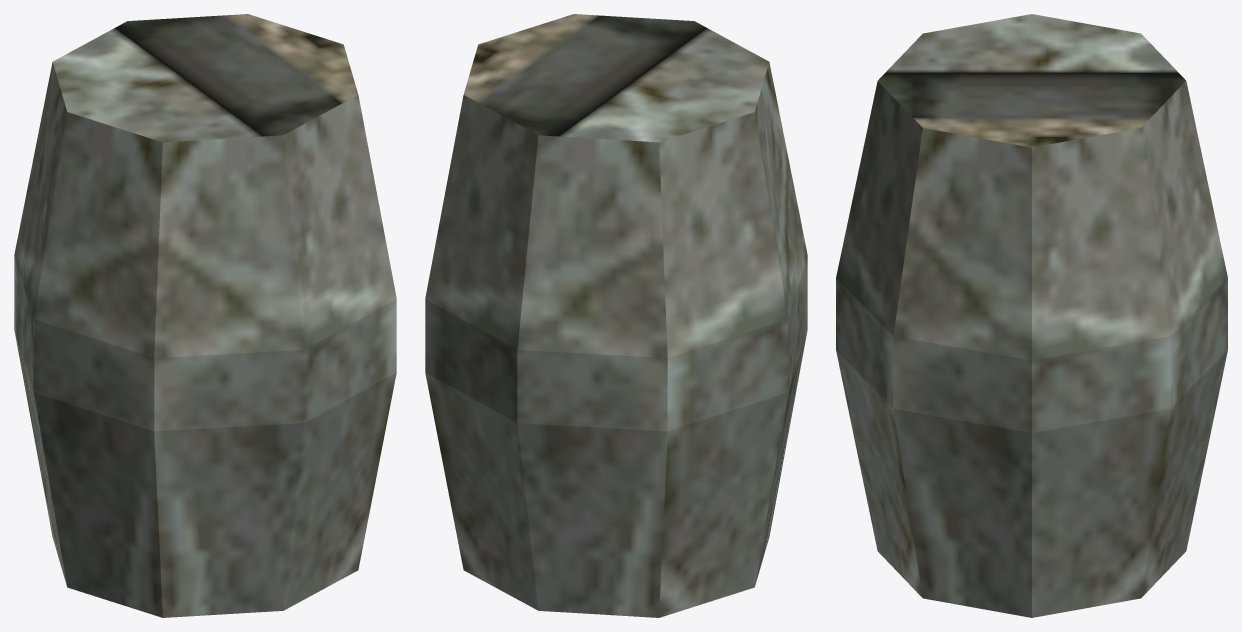
The model's file is wood_barrel.glb.
The picture shows the model from 3 angles, left to right: view 1: azimuth 30°, elevation 25°; view 2: azimuth 150°, elevation 25°; view 3: azimuth 270°, elevation 25°; orthographic projection.
Parts seen in each view (by area): view 1: woodbarrel.001; view 2: woodbarrel.001; view 3: woodbarrel.001.
Boxes of the visible parts, x1,y1,x2,y2 form: woodbarrel.001: (14,14,396,617); woodbarrel.001: (425,14,807,617); woodbarrel.001: (836,14,1227,617).
Bounding box in the file's own units: 75.53 × 100 × 75.53.
Materials: 1 (1 with a texture image).
